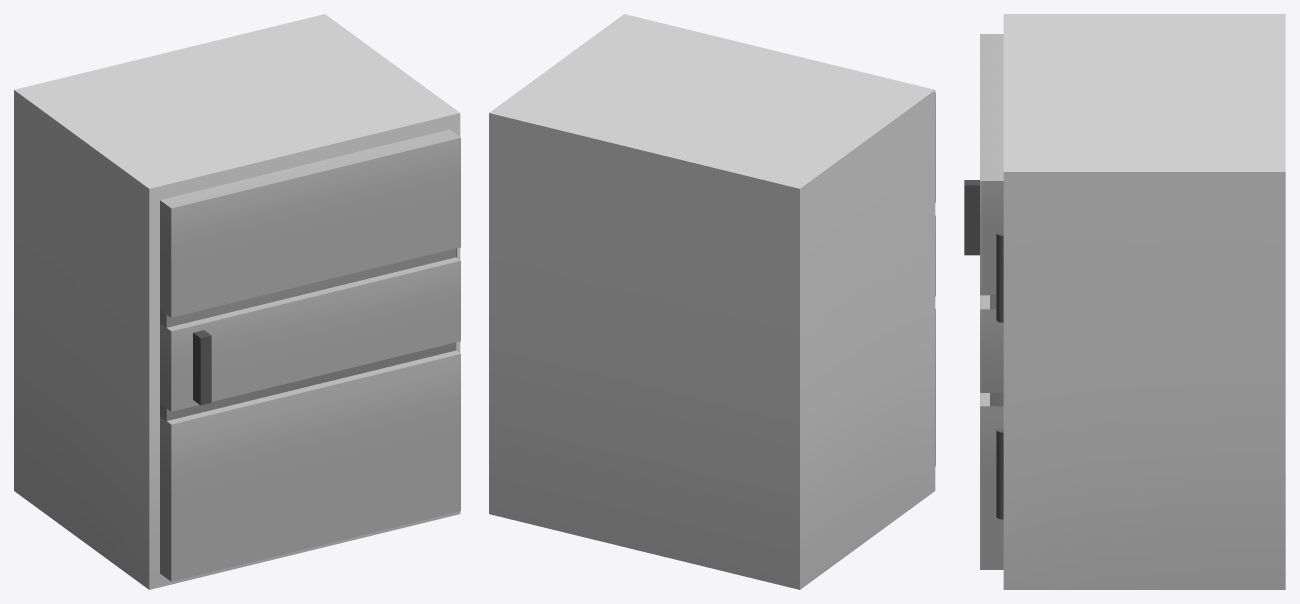
File: Chest3.FBX
3 views of the same model, side by side, from view 1: azimuth 30°, elevation 25°; view 2: azimuth 150°, elevation 25°; view 3: azimuth 270°, elevation 25° (orthographic). The views are drawn at different scales.
Parts seen in each view (by area): view 1: chestdoor3, chestbox3; view 2: chestbox3; view 3: chestbox3, chestdoor3.
Boxes of the visible parts, x1=… form: chestdoor3: x1=160, y1=129, x2=460, y2=581; chestbox3: x1=14, y1=14, x2=460, y2=589; chestbox3: x1=489, y1=14, x2=935, y2=589; chestbox3: x1=1003, y1=14, x2=1285, y2=589; chestdoor3: x1=964, y1=34, x2=1003, y2=569.
Size of the model in its own units: 19.21 by 23.68 by 16.5.
Materials: 2 (2 with a texture image).
